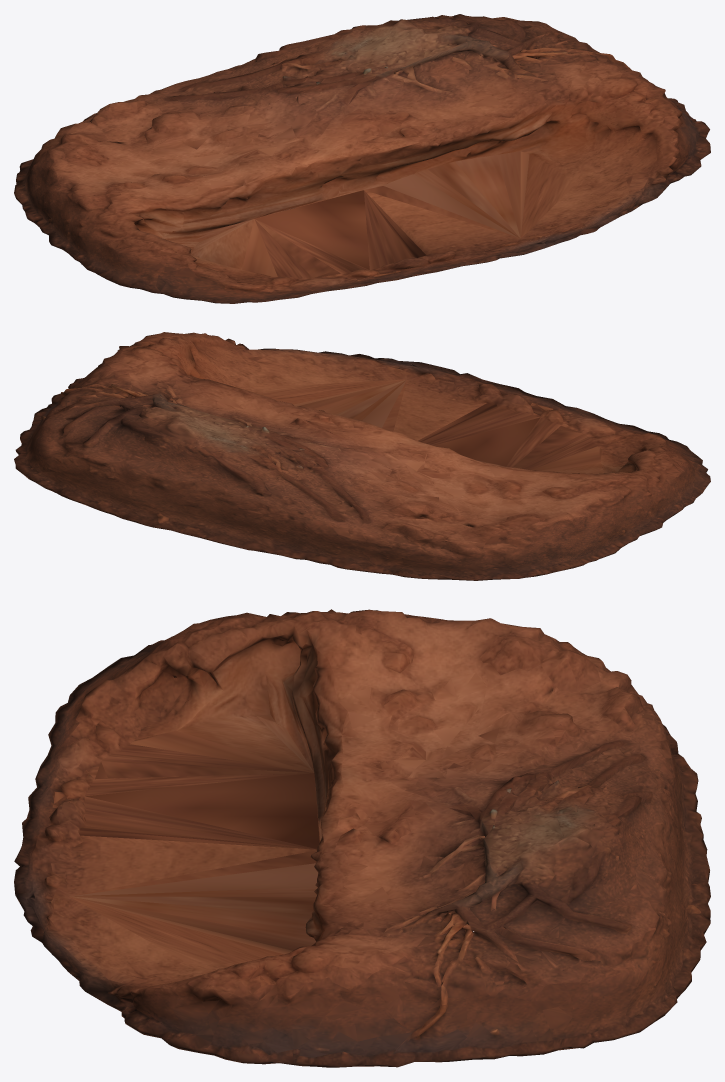
File: clay-4-lod0.gltf
The picture shows the model from 3 angles, top to bottom: view 1: azimuth 30°, elevation 25°; view 2: azimuth 150°, elevation 25°; view 3: azimuth 270°, elevation 25°; orthographic projection. The views are drawn at different scales.
Parts seen in each view (by area): view 1: clay stage 5 L0; view 2: clay stage 5 L0; view 3: clay stage 5 L0.
Boxes of the visible parts, x1,y1,x2,y2 form: clay stage 5 L0: (14,14,710,303); clay stage 5 L0: (14,332,710,580); clay stage 5 L0: (14,609,710,1067).
Size of the model in its own units: 1.76 by 0.1905 by 1.21.
1 material, 1 textured.
